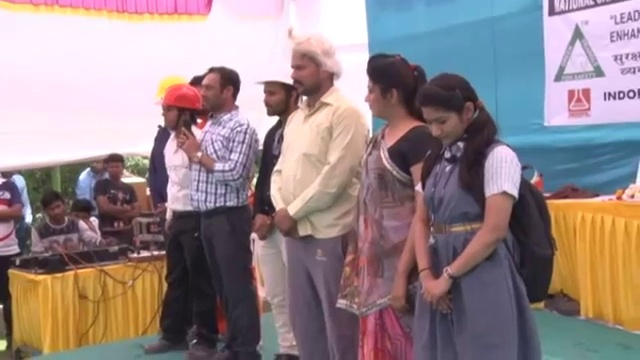helmet: (155, 83, 204, 114), (256, 62, 292, 88)
helmet_off: (415, 73, 485, 157), (362, 53, 421, 129), (285, 35, 343, 98), (195, 68, 240, 118), (38, 190, 66, 225), (69, 199, 95, 223), (103, 155, 124, 184), (88, 157, 107, 174)
helmet_on: (154, 86, 204, 140), (255, 60, 292, 120)
person: (414, 64, 556, 360), (270, 28, 369, 360), (347, 51, 434, 360), (176, 69, 259, 360), (141, 83, 220, 357), (253, 66, 307, 359), (28, 188, 111, 256), (93, 154, 138, 240), (0, 176, 29, 266), (75, 156, 108, 203)
